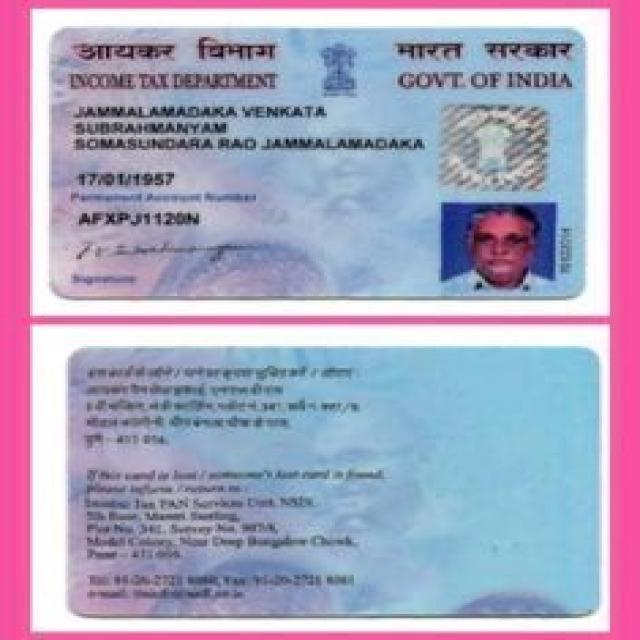pan_card: (49, 28, 588, 296), (65, 345, 598, 616)
